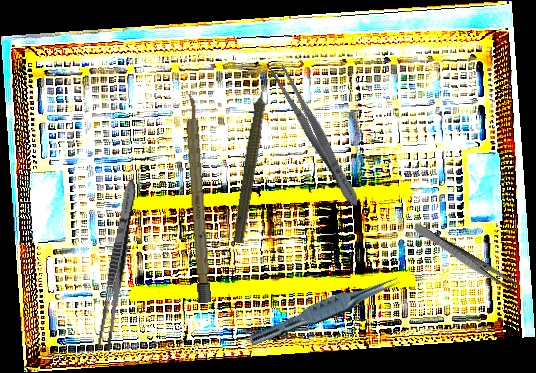Dressing Forceps: (266, 60, 366, 212), (411, 222, 521, 295), (95, 177, 140, 354)
Handpiece: (229, 72, 278, 245)
Scalpel Handle: (183, 93, 212, 304)
Tissue Forceps: (247, 267, 403, 355)
